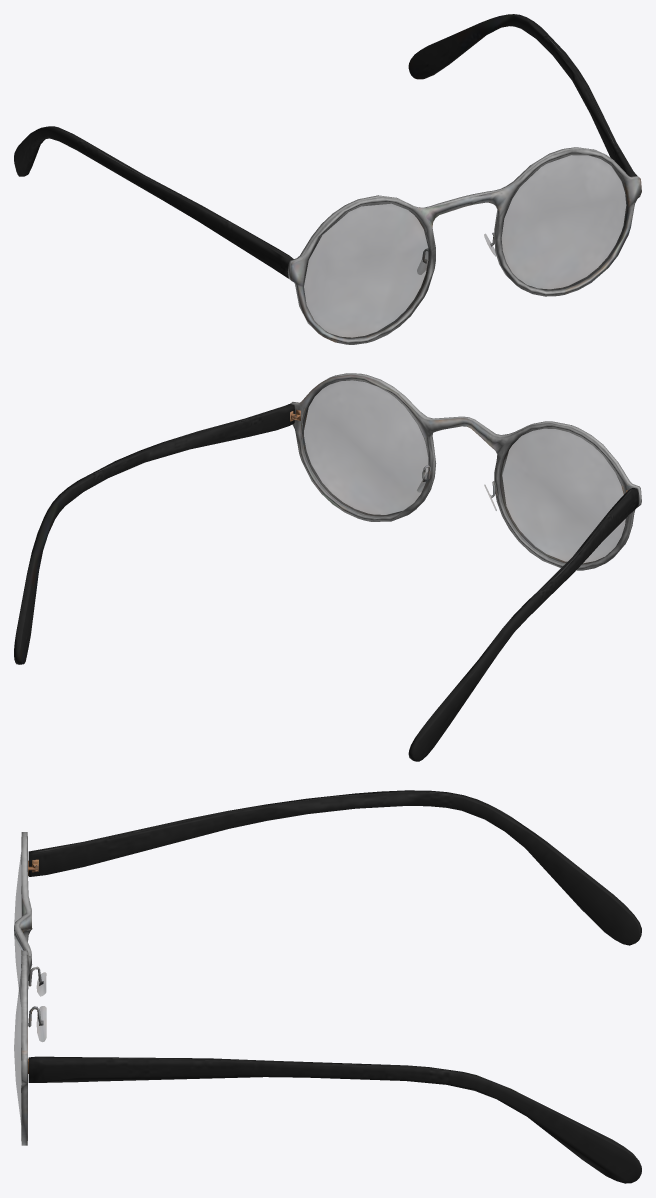
The model's file is ph_round_spectacles.glb.
3 renders of one model, top to bottom at view 1: azimuth 30°, elevation 25°; view 2: azimuth 150°, elevation 25°; view 3: azimuth 270°, elevation 25°, orthographic. The views are drawn at different scales.
Parts seen in each view (by area): view 1: round_spectacles; view 2: round_spectacles; view 3: round_spectacles.
Part boxes in pixels (<box>): round_spectacles: <box>14,14,641,344</box>; round_spectacles: <box>14,373,641,761</box>; round_spectacles: <box>14,790,641,1183</box>.
Bounding box in the file's own units: 0.1578 × 0.0463 × 0.1488.
2 materials, 2 textured.
